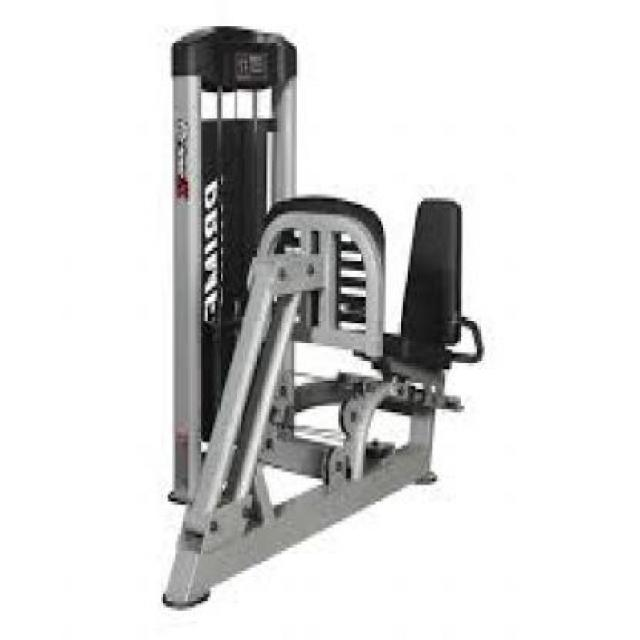leg press: (110, 25, 502, 608)
